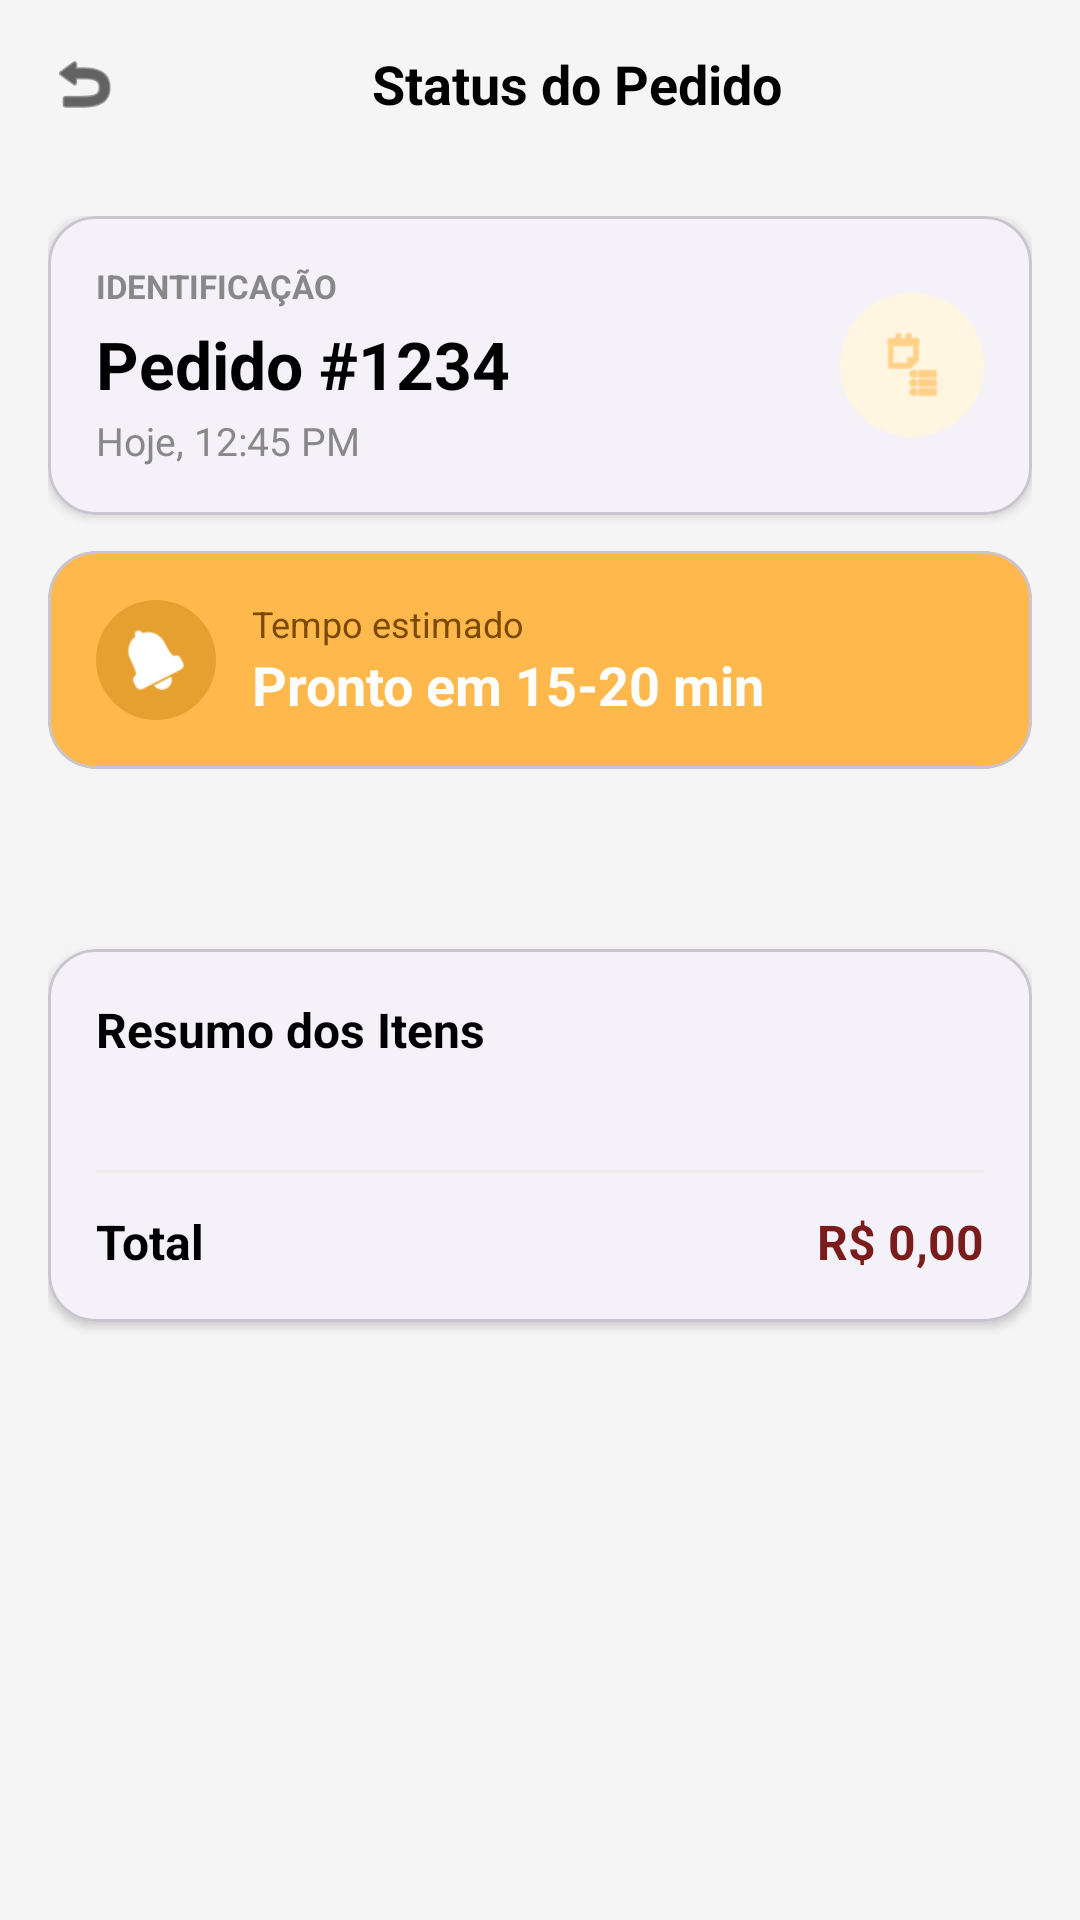

Screen size 1080×1920. Icon name, then its center in pixels as point (x, y):
agenda: point (912, 364)
popup reminder: point (156, 660)
revert: point (85, 84)
